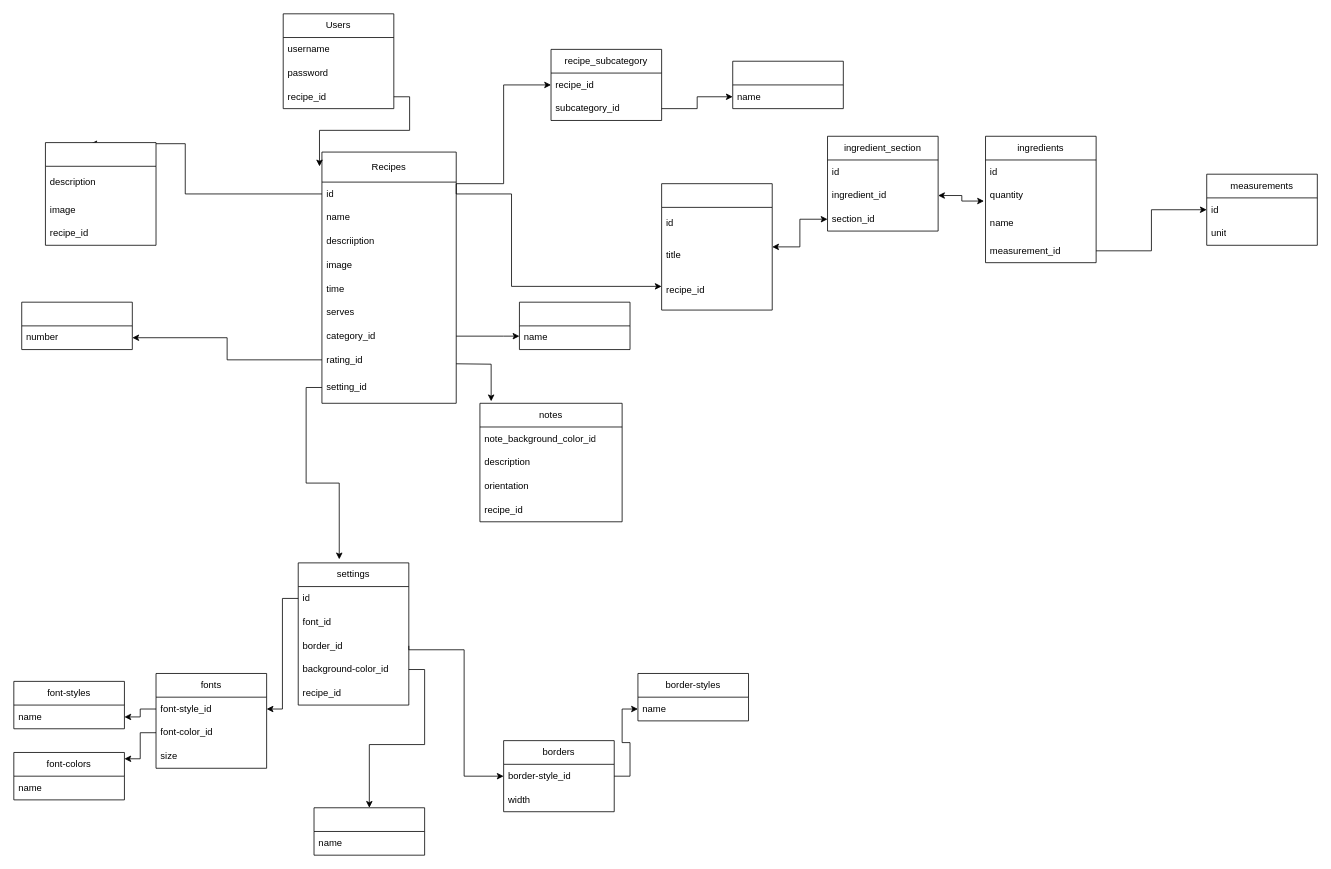
Some shapes in this 1331 by 869 pixel diagram are drawn without their labels. The box of each missing label's shape, as (x1, y1, x2, y2) in pixels:
background-colors: (313, 807, 425, 855)
categories: (519, 301, 630, 350)
ratings: (21, 301, 132, 350)
sections: (661, 183, 772, 310)
steps(étapes): (45, 142, 156, 245)
sub-categories: (732, 60, 843, 109)
